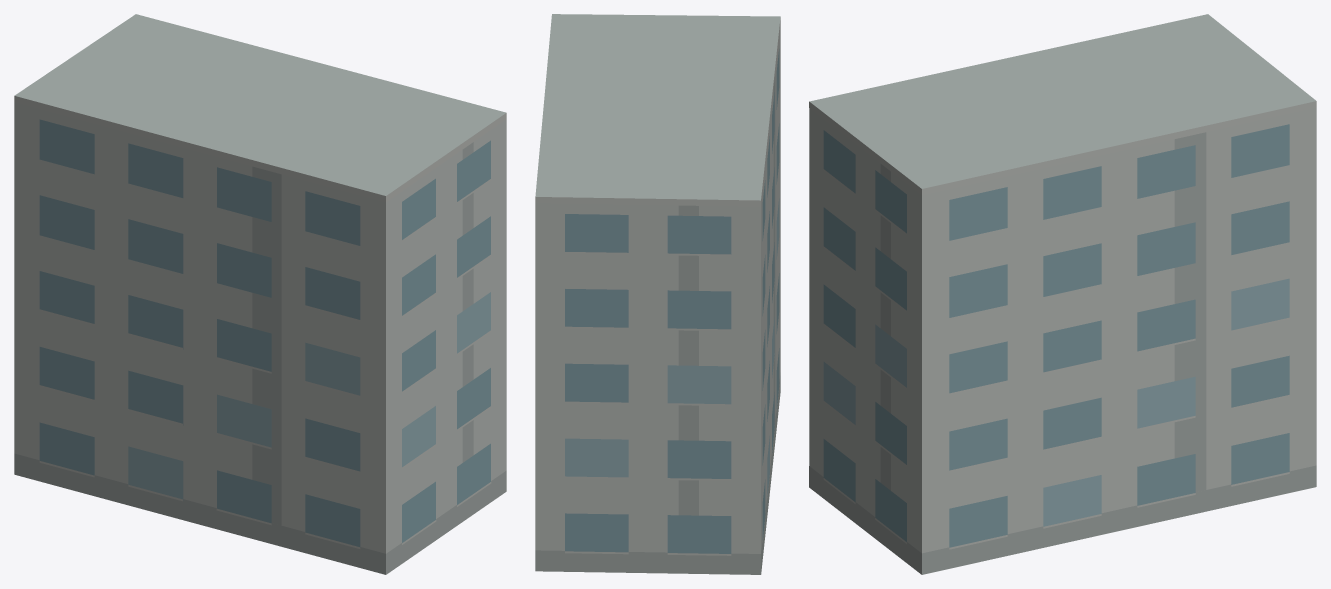
File: survey-upis-32946431.glb
The picture shows the model from 3 angles, left to right: view 1: azimuth 30°, elevation 25°; view 2: azimuth 150°, elevation 25°; view 3: azimuth 270°, elevation 25°; orthographic projection. The views are drawn at different scales.
Visible parts, largest first — view 1: survey-upis-32946431.tmp; view 2: survey-upis-32946431.tmp; view 3: survey-upis-32946431.tmp.
Part boxes in pixels (x1,y1,x2,y2): survey-upis-32946431.tmp: (14, 14, 506, 574); survey-upis-32946431.tmp: (535, 14, 780, 574); survey-upis-32946431.tmp: (809, 14, 1316, 574).
Bounding box in the file's own units: 13.91 × 14.3 × 17.05.
